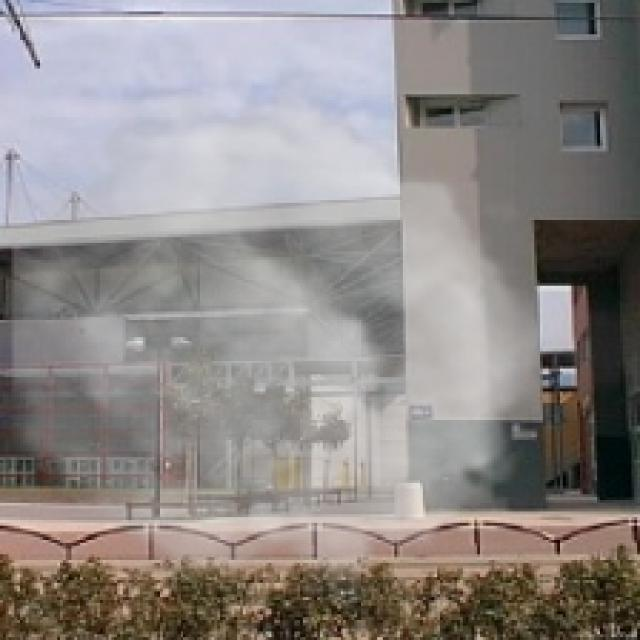Smoke: (11, 66, 540, 608)
